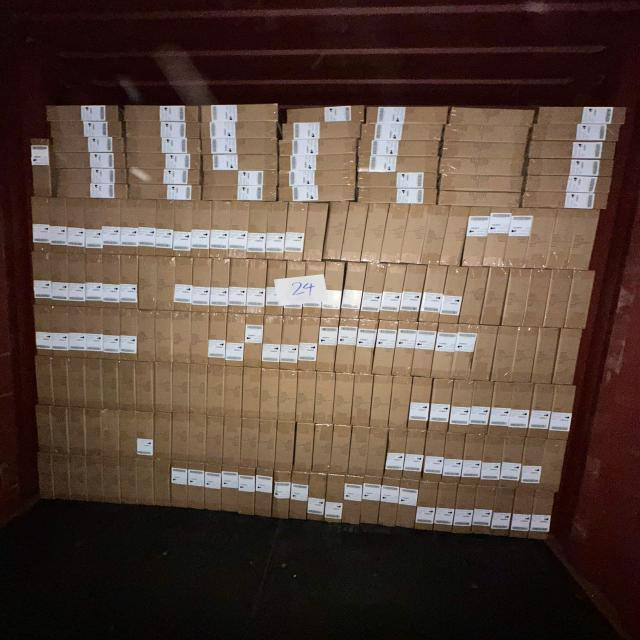Carton: (565, 209, 601, 270), (523, 208, 557, 268), (545, 209, 578, 270), (527, 138, 621, 159), (502, 208, 534, 269), (482, 207, 514, 267), (461, 206, 493, 266), (441, 140, 532, 161), (564, 270, 596, 329), (448, 107, 536, 128), (400, 205, 430, 266), (440, 207, 470, 267), (543, 272, 573, 330), (438, 173, 525, 193), (198, 120, 276, 142), (522, 175, 612, 194), (421, 203, 449, 264), (440, 156, 525, 176), (548, 386, 578, 442), (458, 268, 487, 325), (552, 330, 582, 385), (488, 383, 518, 438), (444, 124, 530, 143), (501, 268, 529, 326), (360, 205, 388, 263), (381, 204, 409, 262), (530, 123, 619, 141), (480, 268, 508, 325), (361, 122, 445, 141), (524, 269, 551, 328), (527, 490, 558, 541), (198, 106, 277, 126), (277, 168, 356, 188), (530, 328, 558, 384), (439, 267, 467, 323), (506, 382, 535, 436), (358, 138, 440, 157), (127, 121, 204, 141), (286, 105, 367, 124), (498, 436, 527, 489), (342, 204, 368, 263), (524, 191, 609, 209), (200, 136, 276, 156), (128, 135, 204, 155), (277, 140, 361, 158), (400, 264, 426, 322), (513, 328, 539, 386), (538, 440, 568, 490), (534, 108, 627, 124), (492, 327, 518, 384), (420, 266, 446, 323), (452, 325, 478, 382), (357, 170, 439, 188), (356, 187, 438, 205), (528, 159, 614, 176), (518, 436, 546, 488), (282, 205, 307, 263), (437, 191, 522, 208), (30, 139, 54, 199), (282, 122, 362, 140), (472, 327, 498, 382), (356, 156, 440, 173), (304, 203, 329, 260), (282, 259, 307, 316), (526, 386, 552, 440), (126, 107, 204, 125), (434, 325, 459, 381), (392, 322, 417, 378), (488, 489, 516, 539), (265, 202, 289, 260), (48, 120, 125, 138), (50, 153, 127, 171), (510, 490, 537, 541), (380, 264, 404, 321), (324, 202, 348, 258), (359, 263, 383, 319), (280, 155, 359, 172), (366, 108, 449, 124), (277, 185, 355, 202), (413, 324, 437, 379), (374, 322, 398, 377), (341, 262, 364, 319), (468, 380, 492, 434), (52, 168, 128, 185), (44, 106, 124, 122), (246, 201, 268, 259), (479, 436, 504, 487), (414, 480, 438, 533), (228, 203, 250, 260), (435, 484, 459, 536), (201, 155, 279, 171), (450, 380, 473, 434), (128, 183, 201, 200), (203, 170, 276, 187), (337, 319, 359, 375), (321, 262, 343, 318), (265, 260, 287, 316), (473, 486, 497, 537), (429, 379, 452, 432), (129, 154, 204, 170), (395, 479, 419, 529), (209, 203, 230, 260), (410, 378, 432, 432), (31, 251, 53, 305), (54, 183, 128, 199), (230, 259, 250, 318), (317, 318, 338, 374), (403, 431, 426, 482), (461, 436, 484, 487), (359, 477, 382, 528), (355, 319, 377, 372), (173, 201, 193, 259), (304, 260, 324, 318), (190, 258, 211, 313), (65, 252, 86, 307), (100, 253, 121, 308), (66, 408, 90, 456), (130, 169, 202, 185), (453, 486, 476, 536), (379, 478, 402, 528), (390, 377, 412, 429), (385, 430, 407, 482), (101, 198, 121, 255), (372, 374, 393, 428), (225, 312, 246, 366), (443, 435, 465, 486), (30, 196, 50, 252), (352, 374, 373, 427), (84, 306, 105, 359), (49, 453, 72, 501), (246, 257, 265, 315), (423, 433, 445, 483), (300, 318, 320, 373), (281, 317, 301, 372), (263, 316, 283, 371), (315, 373, 336, 425), (295, 371, 316, 423), (172, 312, 193, 364), (85, 358, 106, 410), (154, 199, 173, 256), (194, 200, 212, 260), (204, 186, 276, 201), (47, 139, 124, 153), (135, 363, 156, 414), (343, 477, 364, 528), (155, 255, 174, 311), (137, 309, 157, 362), (210, 259, 230, 312), (136, 412, 156, 465), (289, 474, 310, 524), (324, 475, 345, 525), (138, 256, 157, 311), (244, 315, 263, 370), (49, 252, 68, 307), (102, 306, 121, 361), (138, 198, 156, 256), (66, 196, 84, 254), (335, 375, 355, 427), (278, 371, 298, 423), (152, 360, 172, 412), (31, 354, 51, 406), (33, 304, 53, 356), (68, 306, 88, 358), (294, 425, 315, 474), (100, 410, 121, 459), (119, 308, 138, 362), (174, 258, 193, 312), (276, 421, 296, 472), (172, 364, 192, 415), (242, 369, 262, 420), (188, 365, 208, 416), (368, 428, 388, 479), (66, 359, 86, 410), (313, 426, 334, 474), (85, 409, 106, 457), (120, 254, 138, 310), (120, 199, 138, 255), (85, 456, 106, 504), (333, 425, 353, 475), (254, 469, 274, 519), (308, 475, 328, 525), (220, 466, 240, 516), (170, 460, 190, 510), (49, 356, 69, 406), (68, 453, 88, 503), (84, 252, 102, 307), (156, 311, 175, 363), (101, 457, 122, 504), (118, 457, 139, 504), (135, 459, 156, 506), (48, 196, 65, 254), (273, 471, 293, 520), (222, 419, 242, 468), (350, 429, 370, 478), (204, 464, 224, 513), (35, 404, 55, 453), (51, 304, 69, 358), (209, 312, 227, 366), (102, 359, 121, 410), (188, 415, 208, 463), (171, 414, 191, 462), (238, 468, 257, 518), (241, 418, 260, 468), (260, 420, 279, 470), (50, 404, 69, 454), (262, 370, 280, 422), (226, 366, 244, 418), (84, 196, 100, 254), (207, 366, 225, 417), (120, 361, 138, 411), (189, 463, 207, 513), (155, 414, 174, 461), (207, 418, 225, 467), (36, 452, 54, 501), (120, 410, 138, 459), (136, 412, 154, 460), (192, 311, 208, 365), (154, 459, 171, 508)
